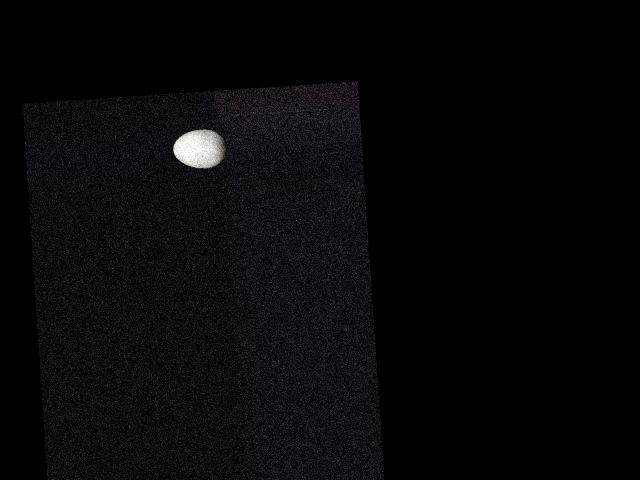egg: (172, 128, 228, 169)
